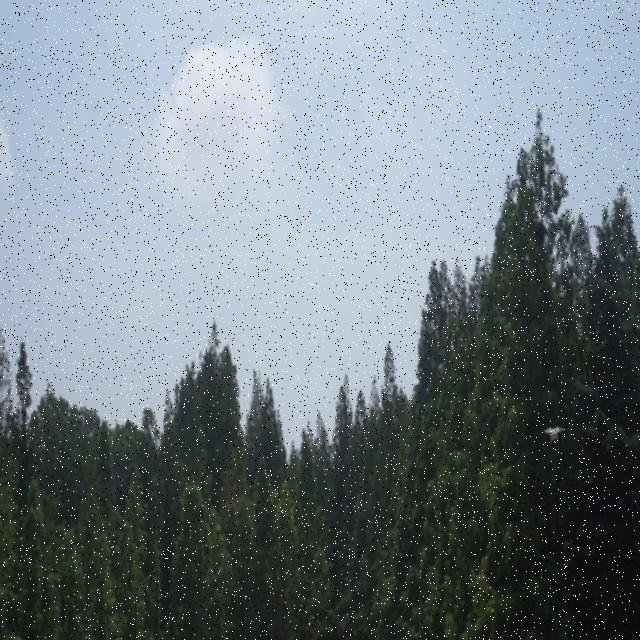UAV: (544, 427, 564, 441)
